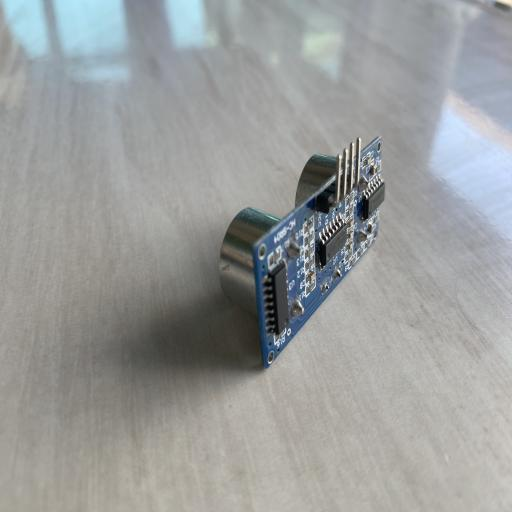Ultrasonic Sensor: (218, 134, 386, 368)
